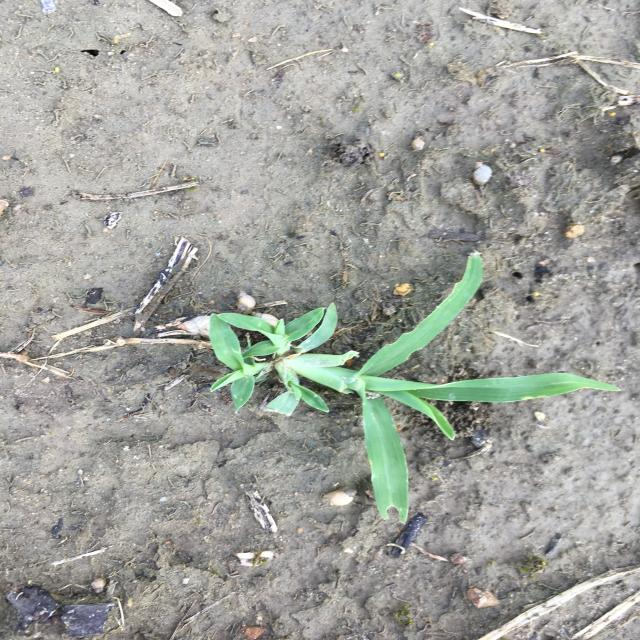Goosegrass: (205, 254, 626, 528)
